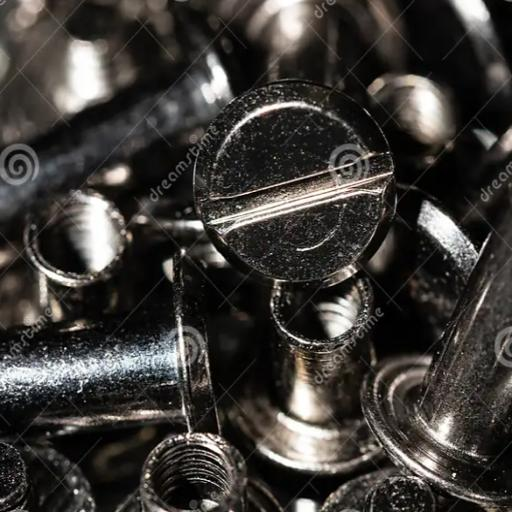Slotted: (190, 81, 401, 289)
